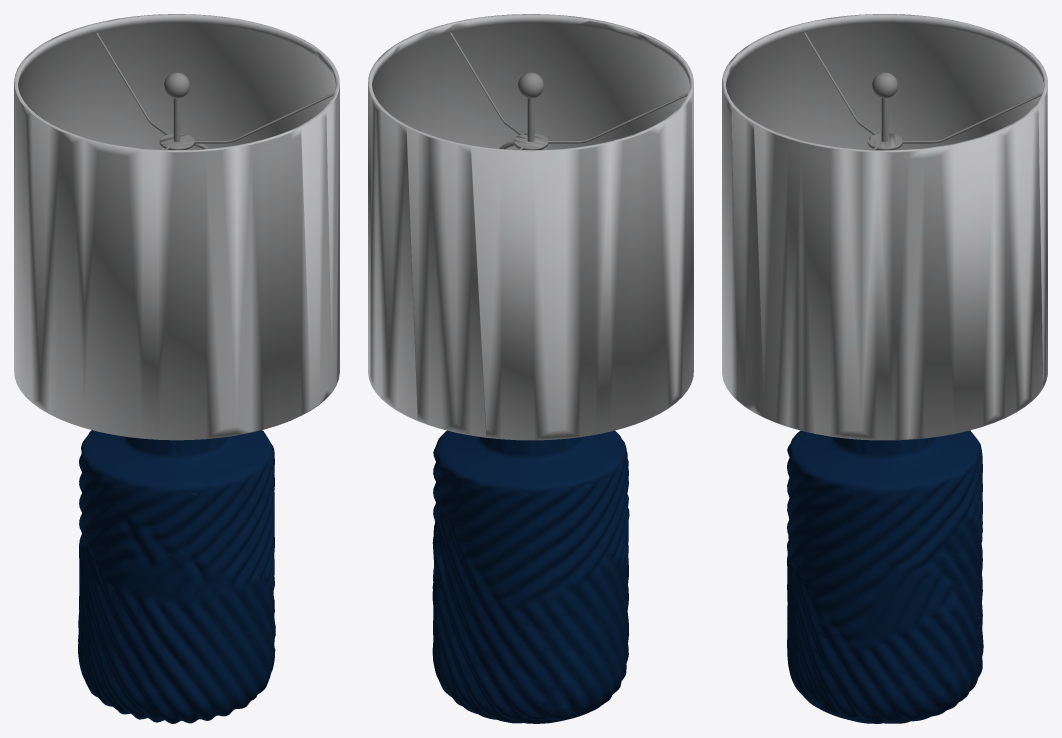
The model's file is B07MBFDHM9.glb.
The picture shows the model from 3 angles, left to right: view 1: azimuth 30°, elevation 25°; view 2: azimuth 150°, elevation 25°; view 3: azimuth 270°, elevation 25°; orthographic projection.
Visible parts, largest first — view 1: RootNode; view 2: RootNode; view 3: RootNode.
Part boxes in pixels (<box>): RootNode: <box>14,14,339,723</box>; RootNode: <box>368,14,693,723</box>; RootNode: <box>722,14,1047,723</box>.
Bounding box in the file's own units: 0.2401 × 0.5108 × 0.2401.
Materials: 1 (1 with a texture image).
